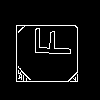F: (25, 25, 72, 58)
